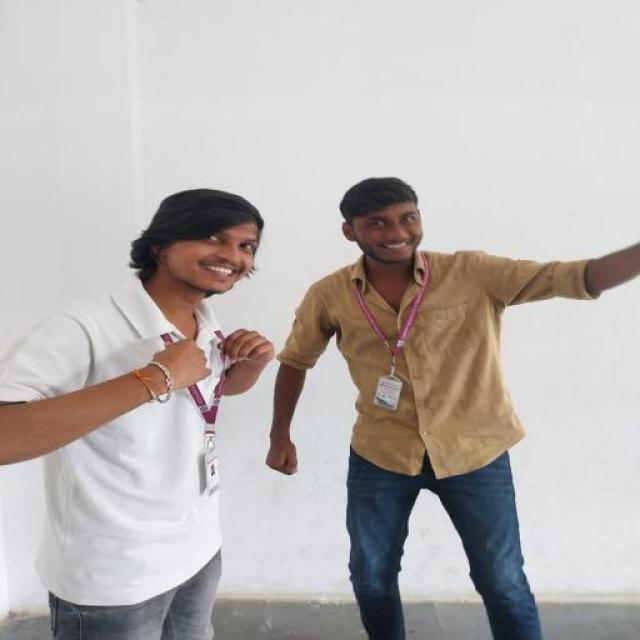id_card: (151, 306, 248, 502), (341, 264, 435, 418)
